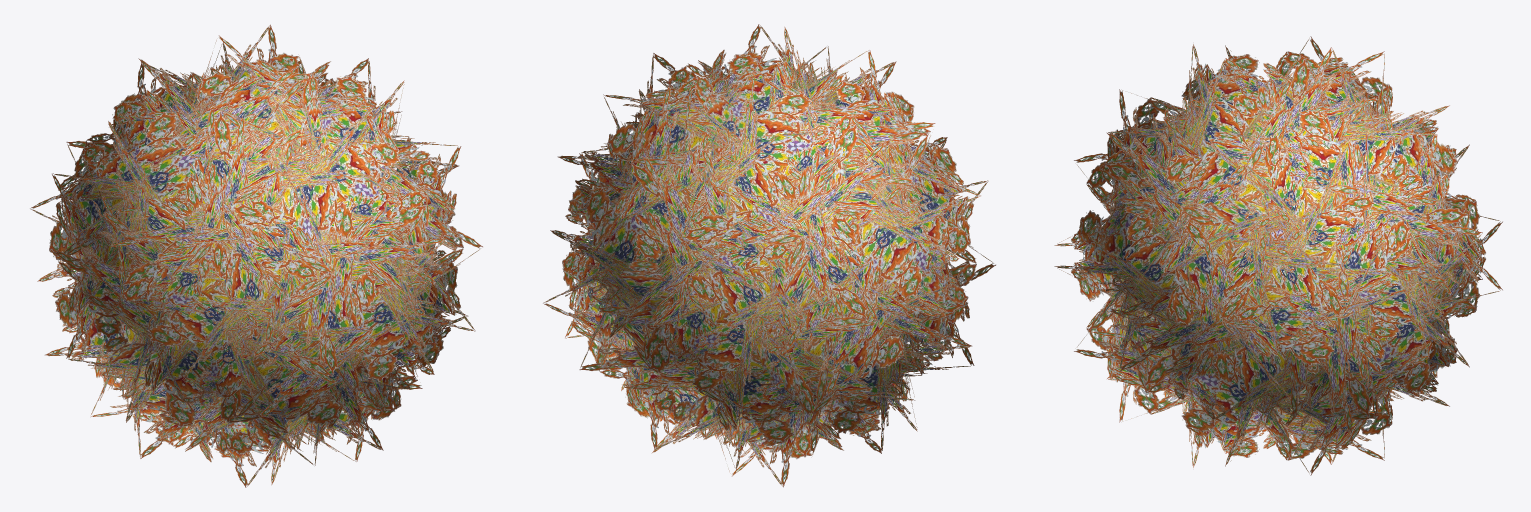
File: GreatInvertedPentagonalHexecontahedron7.gltf
3 renders of one model, left to right at view 1: azimuth 30°, elevation 25°; view 2: azimuth 150°, elevation 25°; view 3: azimuth 270°, elevation 25°, orthographic.
Parts seen in each view (by area): view 1: GreatInvertedPentagonalHexecontahedron7; view 2: GreatInvertedPentagonalHexecontahedron7; view 3: GreatInvertedPentagonalHexecontahedron7.
Part boxes in pixels (bbox=[...]): GreatInvertedPentagonalHexecontahedron7: bbox=[30, 24, 482, 487]; GreatInvertedPentagonalHexecontahedron7: bbox=[543, 24, 995, 487]; GreatInvertedPentagonalHexecontahedron7: bbox=[1054, 36, 1502, 475].
Bounding box in the file's own units: 1.13 × 1.13 × 1.13.
1 material, 1 textured.
